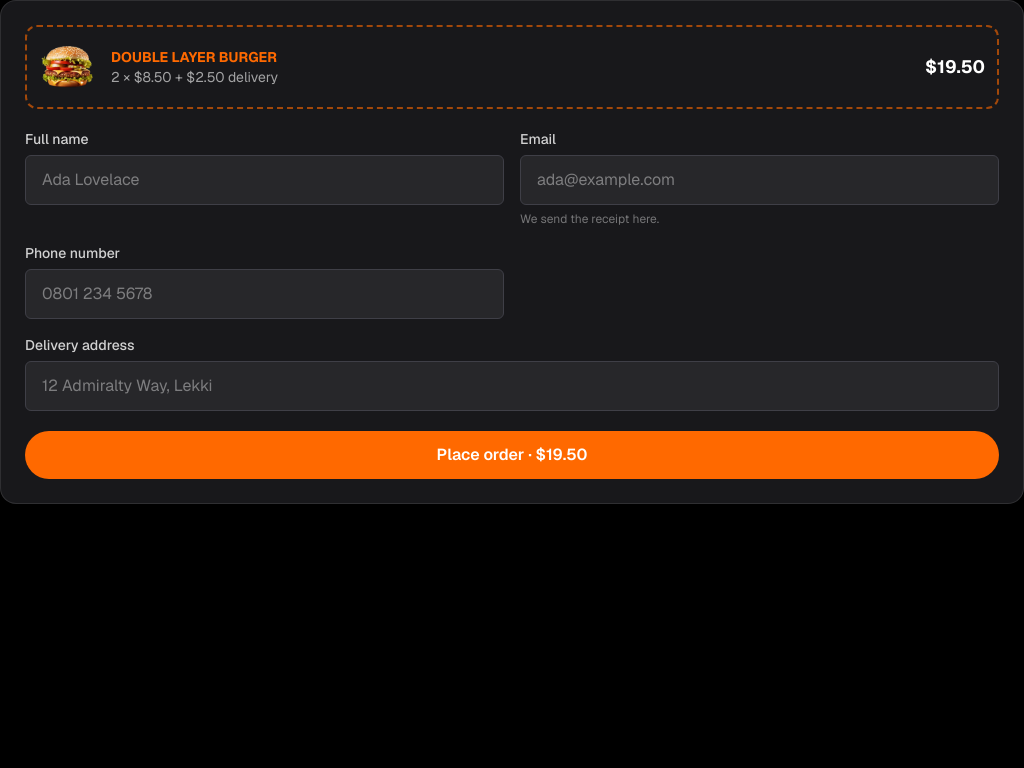
Test: CheckoutForm › shows inline errors on submit, focuses the first one, and clears each as it is fixed
Click the button "Place order · $19.50": (512, 455) [25,431,999,479]
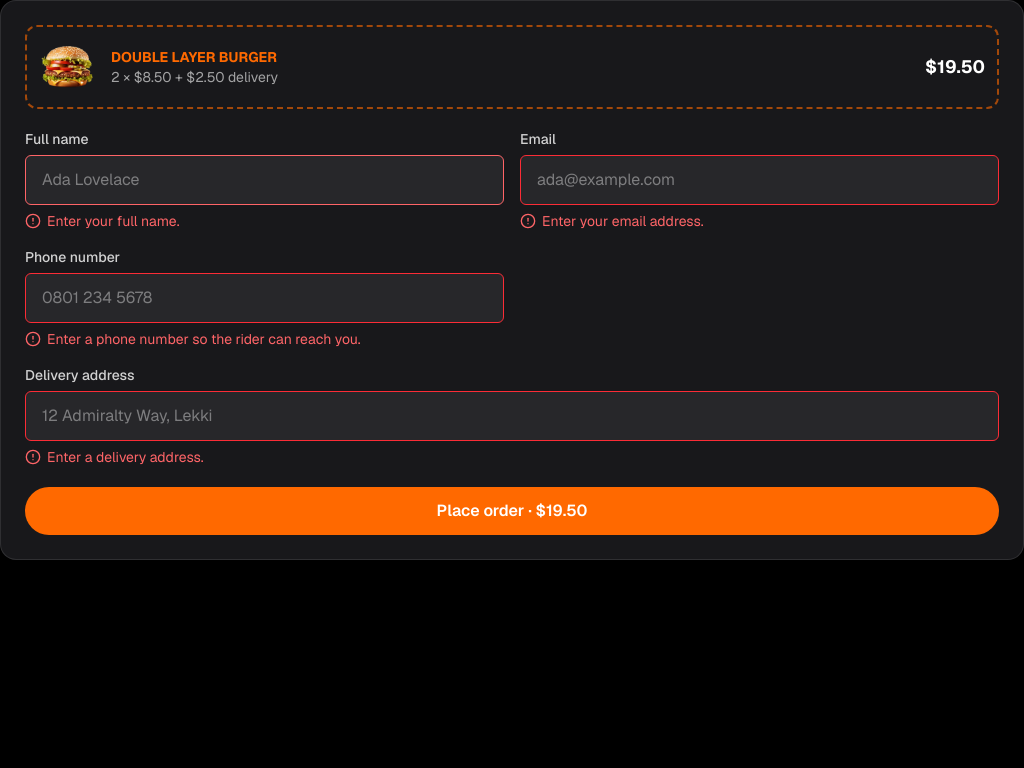
Result: the text "Enter your full name." is shown at [25,212,180,230]
Result: the text "Enter your email address." is shown at [520,212,704,230]
In the field labelled "Full name": (264, 180) [25,155,504,205], type "Ada"
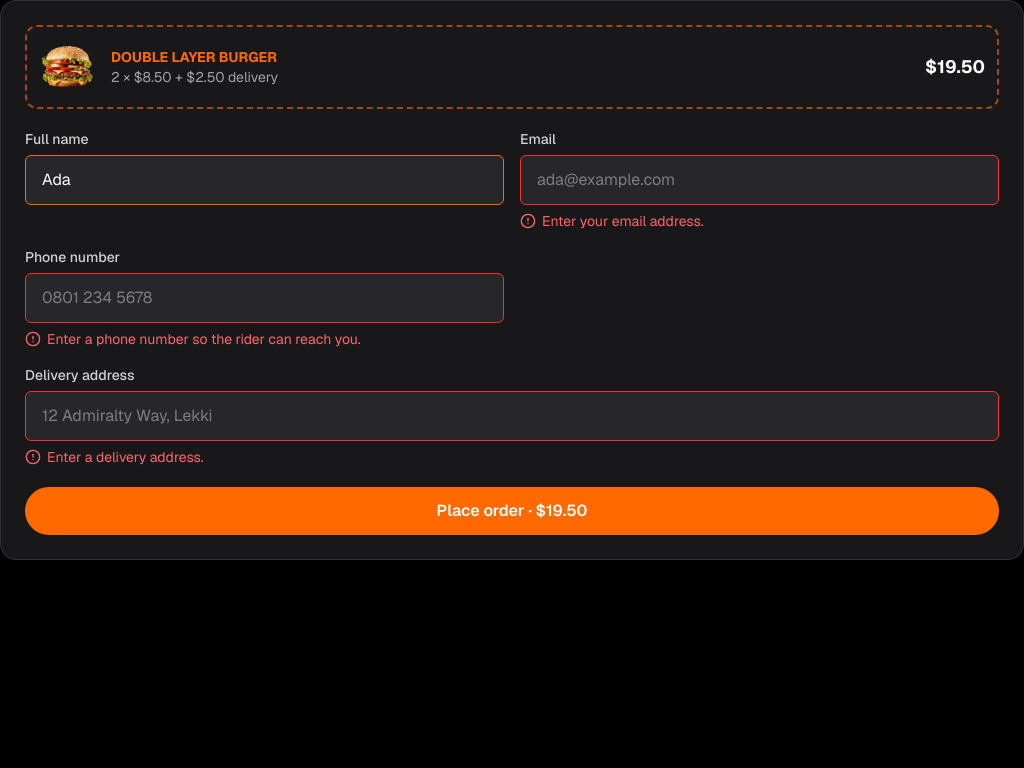
Result: the text "Enter your full name." is gone
